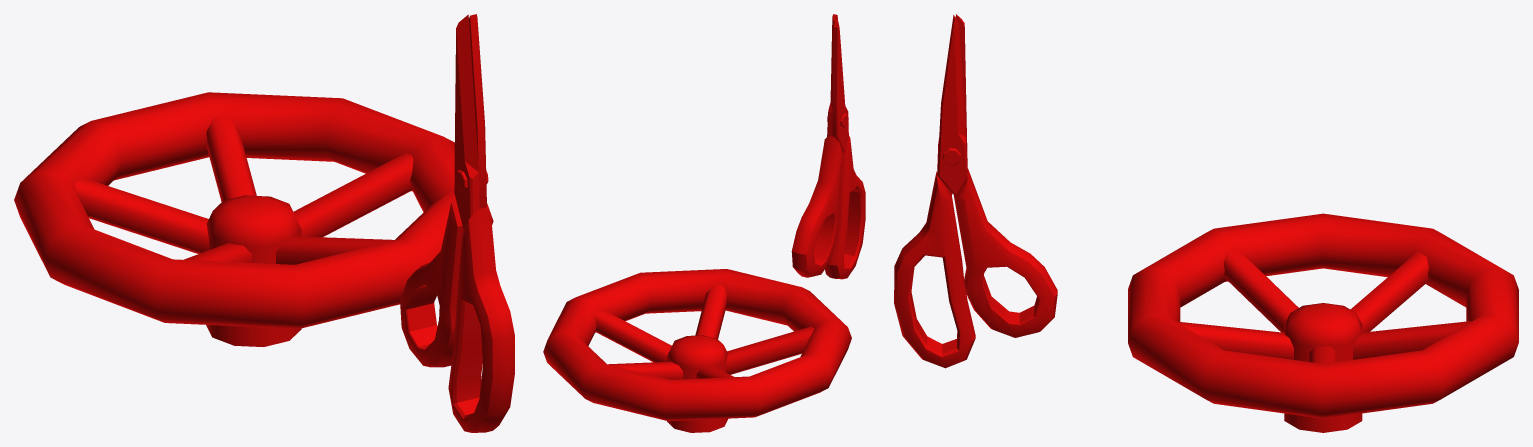
File: ScissorsAndValveWheel.fbx
3 renders of one model, left to right at view 1: azimuth 30°, elevation 25°; view 2: azimuth 150°, elevation 25°; view 3: azimuth 270°, elevation 25°, orthographic. The views are drawn at different scales.
Parts seen in each view (by area): view 1: ValveWheel, Scissor1, Scissor2; view 2: ValveWheel, Scissor2, Scissor1; view 3: ValveWheel, Scissor2, Scissor1.
Boxes of the visible parts, x1=… form: ValveWheel: x1=14, y1=92, x2=493, y2=346; Scissor1: x1=448, y1=14, x2=514, y2=432; Scissor2: x1=400, y1=14, x2=486, y2=367; ValveWheel: x1=543, y1=269, x2=851, y2=432; Scissor2: x1=791, y1=14, x2=843, y2=277; Scissor1: x1=825, y1=16, x2=865, y2=279; ValveWheel: x1=1128, y1=213, x2=1518, y2=432; Scissor2: x1=937, y1=15, x2=1057, y2=337; Scissor1: x1=894, y1=14, x2=975, y2=368.
Bounding box in the file's own units: 0.346 × 0.3728 × 0.5258.
